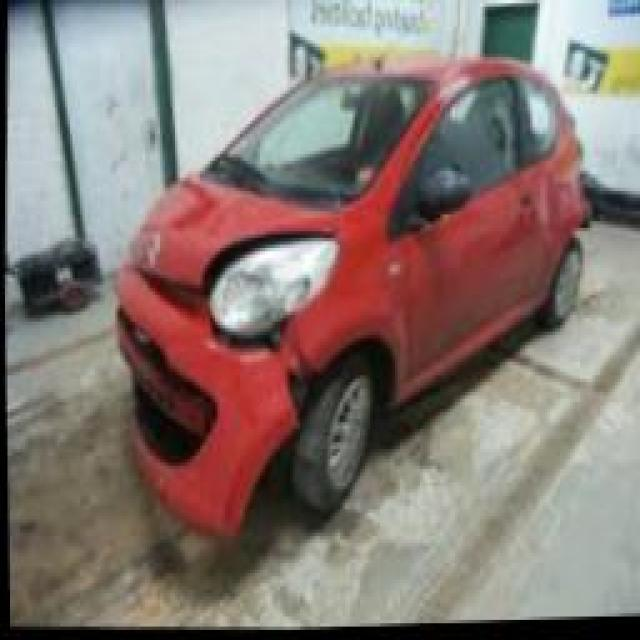Bonnet: (109, 269, 302, 533)
Fender: (542, 130, 586, 308)
